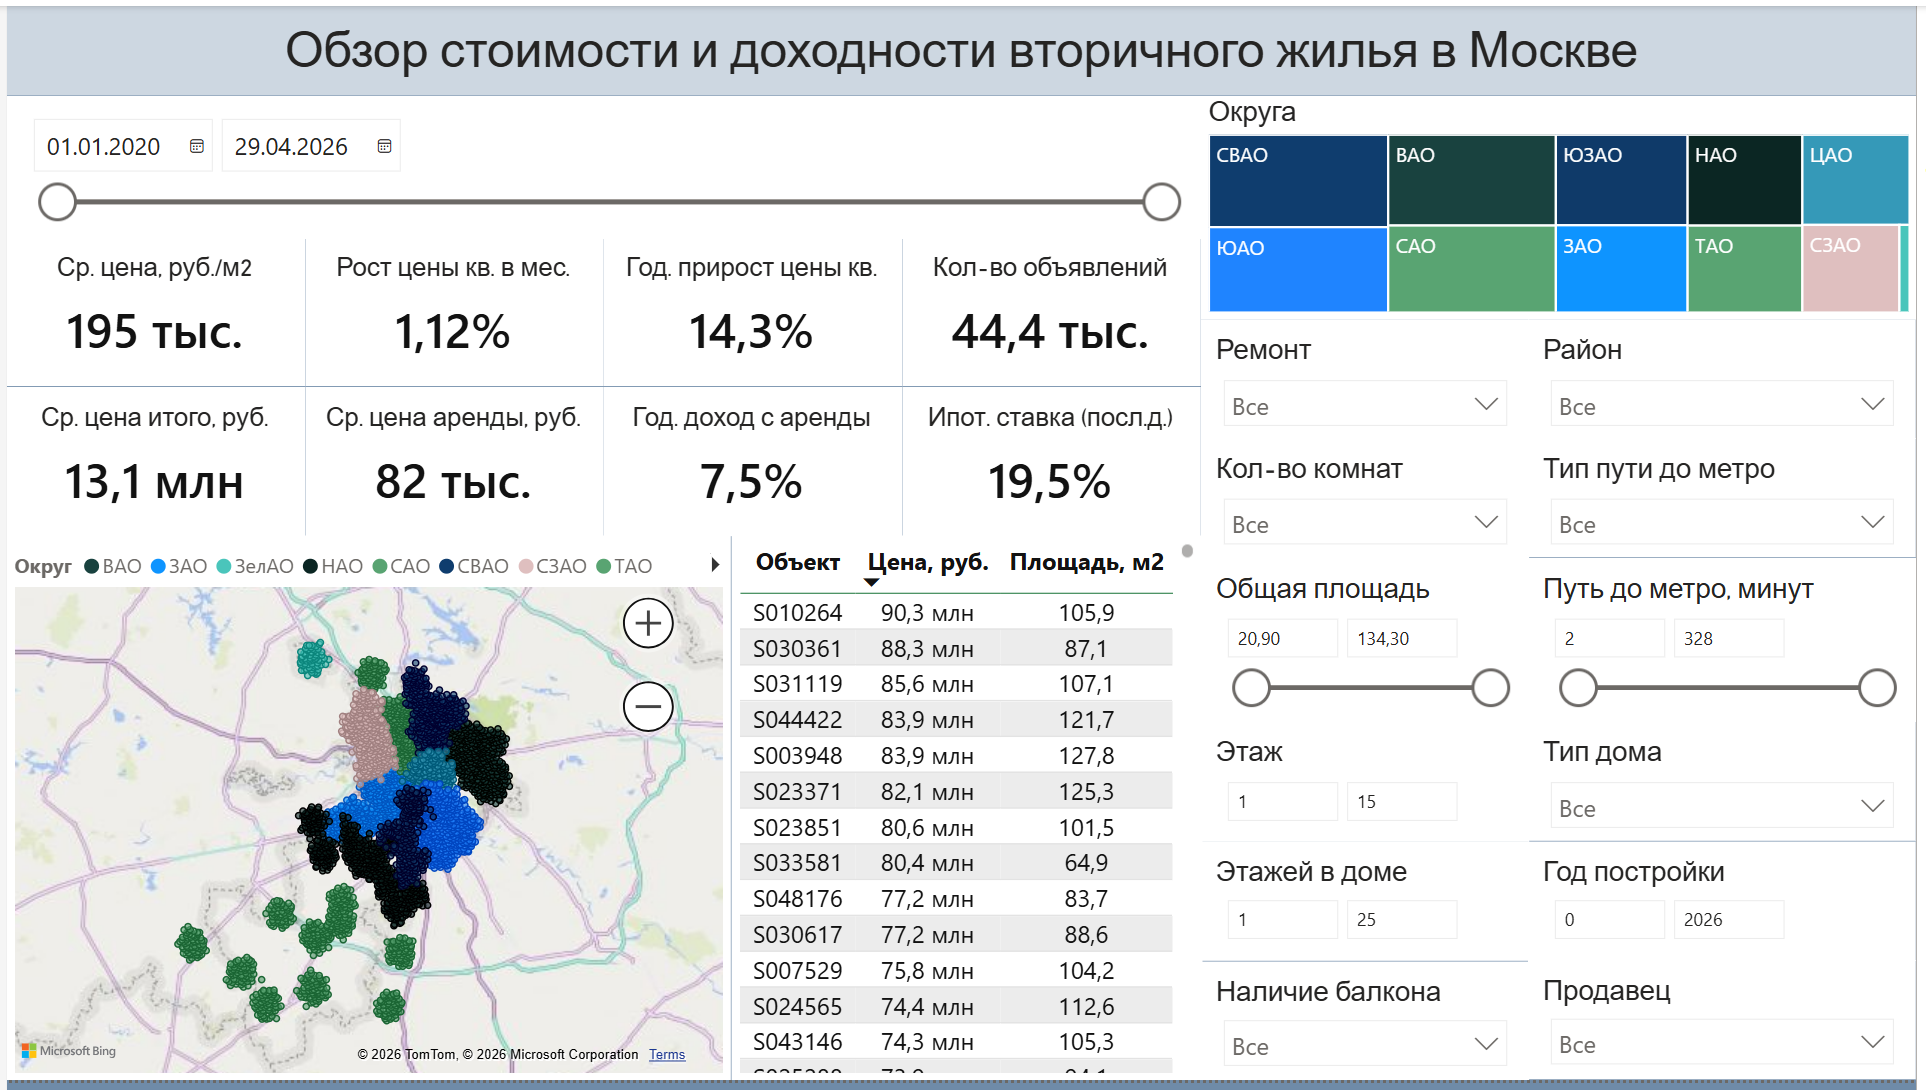

Layout of this report page (visuals, bound fields, positions):
{"tool":"powerbi","page":{"name":"Средняя стоимость","canvas":[1280,720],"ordinal":2},"visuals":[{"type":"treemap","title":"Округа","fields":{"Values":["CountNonNull(secondary_market.id)"],"Group":["secondary_market.Округ"]},"box":[800.6,60.3,479.8,149.9],"z":0},{"type":"slicer","title":"Ремонт","fields":{"Values":["secondary_market.Тип_ремонта"]},"box":[800.6,210.2,220,80.5],"z":1000},{"type":"slicer","title":"Наличие балкона","fields":{"Values":["secondary_market.has_balcony"]},"box":[800.6,640.7,220,80.5],"z":2000},{"type":"slicer","title":"Продавец","fields":{"Values":["secondary_market.seller_type"]},"box":[1020,640,260,80],"z":3000},{"type":"slicer","title":"Год постройки","fields":{"Values":["secondary_market.building_year"]},"box":[1020,560,260,80],"z":4000},{"type":"slicer","title":"Кол-во комнат","fields":{"Values":["secondary_market.rooms"]},"box":[800.6,289.7,220,80.5],"z":5000},{"type":"slicer","title":"Общая площадь","fields":{"Values":["secondary_market.total_area"]},"box":[800.6,370.1,220,110],"z":6000},{"type":"textbox","title":"Средняя стоимость вторичного жилья в Москве","box":[0,0,1280,60],"z":7000},{"type":"map","fields":{"Y":["secondary_market.lat"],"X":["secondary_market.lon"],"Series":["secondary_market.Округ"]},"box":[0,355,485,365.1],"z":8000},{"type":"tableEx","fields":{"Values":["secondary_market.id","secondary_market.price_rub","secondary_market.total_area"]},"box":[485.8,355,315,365.1],"z":9000},{"type":"cardVisual","title":"Ср. цена, руб./м2","fields":{"Data":["Avg(secondary_market.price_per_sqm)"]},"box":[0,155,200,100],"z":10000},{"type":"cardVisual","title":"Ср. цена итого, руб.","fields":{"Data":["Avg(secondary_market.price_rub)"]},"box":[0,255,200,100],"z":11000},{"type":"cardVisual","title":"Год. прирост цены кв.","fields":{"Data":["secondary_market.Среднегод. прирост"]},"box":[400,155,200,100],"z":12000},{"type":"cardVisual","title":"Ср. цена аренды, руб.","fields":{"Data":["secondary_market.Средняя стоимость аренды"]},"box":[200,255,200,100],"z":13000},{"type":"cardVisual","title":"Год. доход с аренды","fields":{"Data":["secondary_market.Годовая_аренда"]},"box":[400,255,200,100],"z":14000},{"type":"cardVisual","title":"Кол-во объявлений","fields":{"Data":["Count(secondary_market.id)"]},"box":[600,155,200,100],"z":15000},{"type":"cardVisual","title":"Ипот. ставка (посл.д.)","fields":{"Data":["secondary_market.Ср. ставка по ипотеке на посл. дату"]},"box":[600,255,200,100],"z":16000},{"type":"slicer","title":"Период публикации объявлений","fields":{"Values":["secondary_market.date_posted"]},"box":[0,60,800,95],"z":17000},{"type":"slicer","title":"Район","fields":{"Values":["secondary_market.district"]},"box":[1020,210,260,80],"z":18000},{"type":"slicer","title":"Путь до метро, минут","fields":{"Values":["secondary_market.metro_distance_min"]},"box":[1020,370.1,260,109.6],"z":19000},{"type":"slicer","title":"Тип дома","fields":{"Values":["secondary_market.Тип_постройки"]},"box":[1020,480,260,80],"z":20000},{"type":"slicer","title":"Тип пути до метро","fields":{"Values":["secondary_market.Тип_расстояния_до_метро"]},"box":[1020,290,260,80],"z":21000},{"type":"slicer","title":"Этажей в доме","fields":{"Values":["secondary_market.total_floors"]},"box":[800.6,560.2,220,80],"z":22000},{"type":"slicer","title":"Этаж","fields":{"Values":["secondary_market.floor"]},"box":[800.6,479.8,220,80.5],"z":23000},{"type":"cardVisual","title":"Рост цены кв. в мес.","fields":{"Data":["secondary_market.Среднемес. прирост"]},"box":[200,155,200,100],"z":24000}]}

Visuals, with their boxes in screenshot pixels (x1, y1, x2, y2), scaled from the page's 1280x720 canvas onto the 1926x1090 screenshot:
"Округа" treemap: l=1205, t=91, r=1925, b=318
"Ремонт" slicer: l=1205, t=318, r=1536, b=440
"Наличие балкона" slicer: l=1205, t=970, r=1536, b=1089
"Продавец" slicer: l=1535, t=969, r=1925, b=1089
"Год постройки" slicer: l=1535, t=848, r=1925, b=969
"Кол-во комнат" slicer: l=1205, t=439, r=1536, b=560
"Общая площадь" slicer: l=1205, t=560, r=1536, b=727
"Средняя стоимость вторичного жилья в Москве" textbox: l=0, t=0, r=1925, b=91
map - secondary_market.lat x secondary_market.lon: l=0, t=537, r=730, b=1089
tableEx - secondary_market.id x secondary_market.price_rub: l=731, t=537, r=1205, b=1089
"Ср. цена, руб./м2" cardVisual: l=0, t=235, r=301, b=386
"Ср. цена итого, руб." cardVisual: l=0, t=386, r=301, b=537
"Год. прирост цены кв." cardVisual: l=602, t=235, r=903, b=386
"Ср. цена аренды, руб." cardVisual: l=301, t=386, r=602, b=537
"Год. доход с аренды" cardVisual: l=602, t=386, r=903, b=537
"Кол-во объявлений" cardVisual: l=903, t=235, r=1204, b=386
"Ипот. ставка (посл.д.)" cardVisual: l=903, t=386, r=1204, b=537
"Период публикации объявлений" slicer: l=0, t=91, r=1204, b=235
"Район" slicer: l=1535, t=318, r=1925, b=439
"Путь до метро, минут" slicer: l=1535, t=560, r=1925, b=726
"Тип дома" slicer: l=1535, t=727, r=1925, b=848
"Тип пути до метро" slicer: l=1535, t=439, r=1925, b=560
"Этажей в доме" slicer: l=1205, t=848, r=1536, b=969
"Этаж" slicer: l=1205, t=726, r=1536, b=848
"Рост цены кв. в мес." cardVisual: l=301, t=235, r=602, b=386
